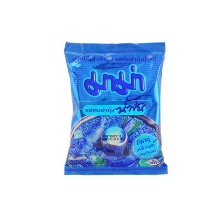snack: (53, 35, 175, 183)
